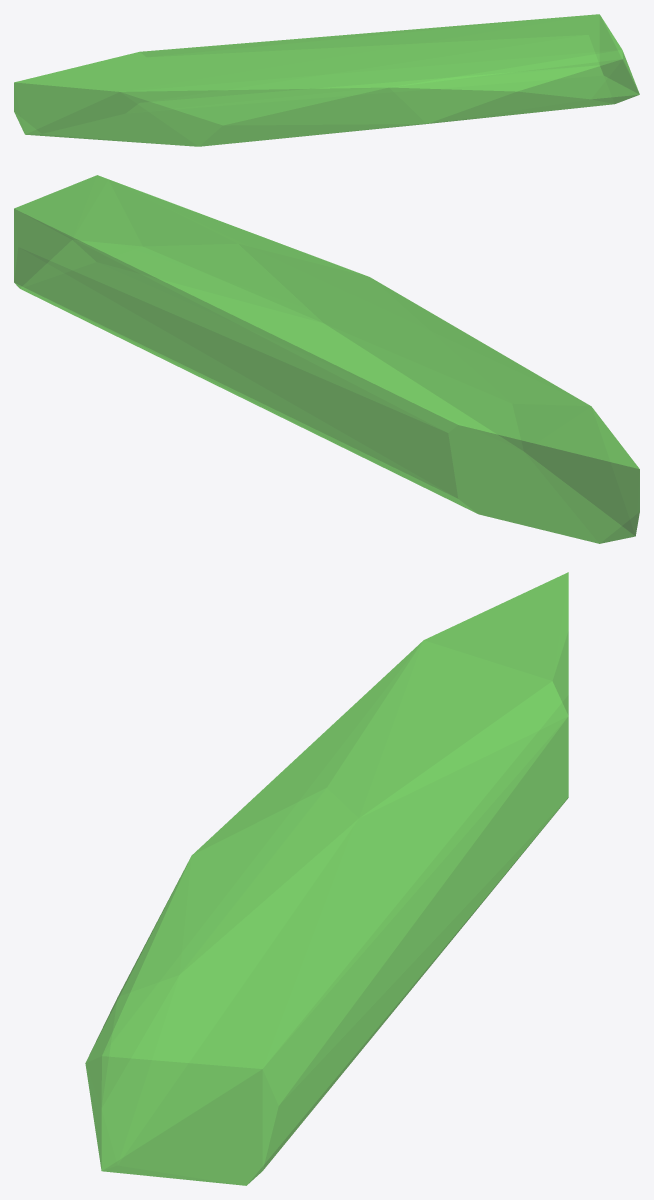
The picture shows the model from 3 angles, top to bottom: view 1: azimuth 30°, elevation 25°; view 2: azimuth 150°, elevation 25°; view 3: azimuth 270°, elevation 25°; orthographic projection. The views are drawn at different scales.
Visible parts, largest first — view 1: Shape_IndexedFaceSet.014_Shape_IndexedFaceSet.3175; view 2: Shape_IndexedFaceSet.014_Shape_IndexedFaceSet.3175; view 3: Shape_IndexedFaceSet.014_Shape_IndexedFaceSet.3175.
Part boxes in pixels (<box>): Shape_IndexedFaceSet.014_Shape_IndexedFaceSet.3175: <box>14,14,639,146</box>; Shape_IndexedFaceSet.014_Shape_IndexedFaceSet.3175: <box>14,175,639,543</box>; Shape_IndexedFaceSet.014_Shape_IndexedFaceSet.3175: <box>85,572,568,1185</box>.
Bounding box in the file's own units: 0.3388 × 0.0371 × 0.1392.
